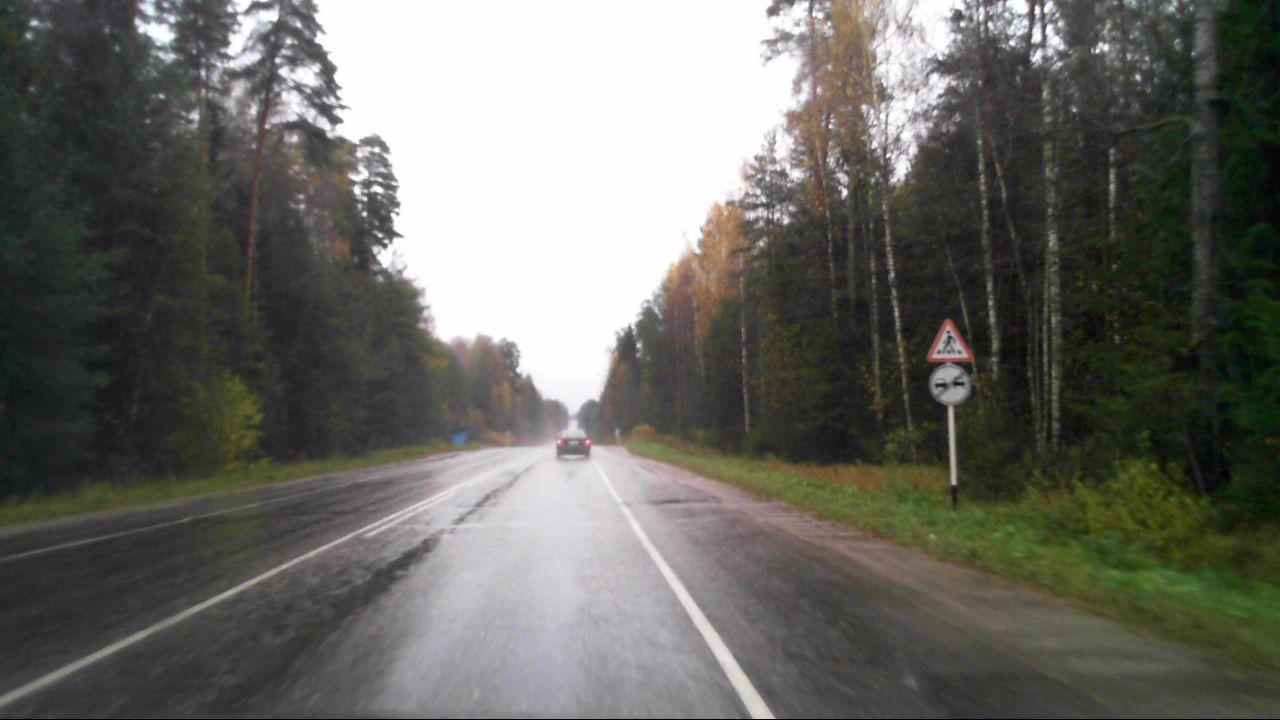1_22: (923, 314, 971, 362)
3_21: (927, 364, 973, 407)
